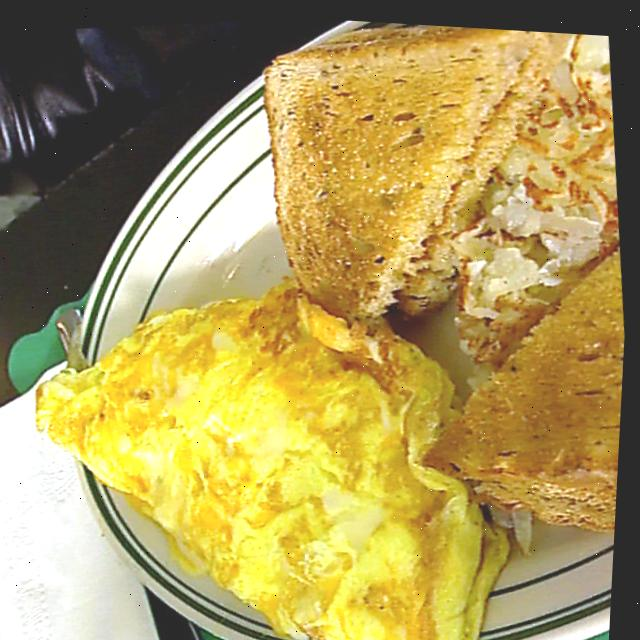鸡蛋料理: (3, 245, 542, 640)
